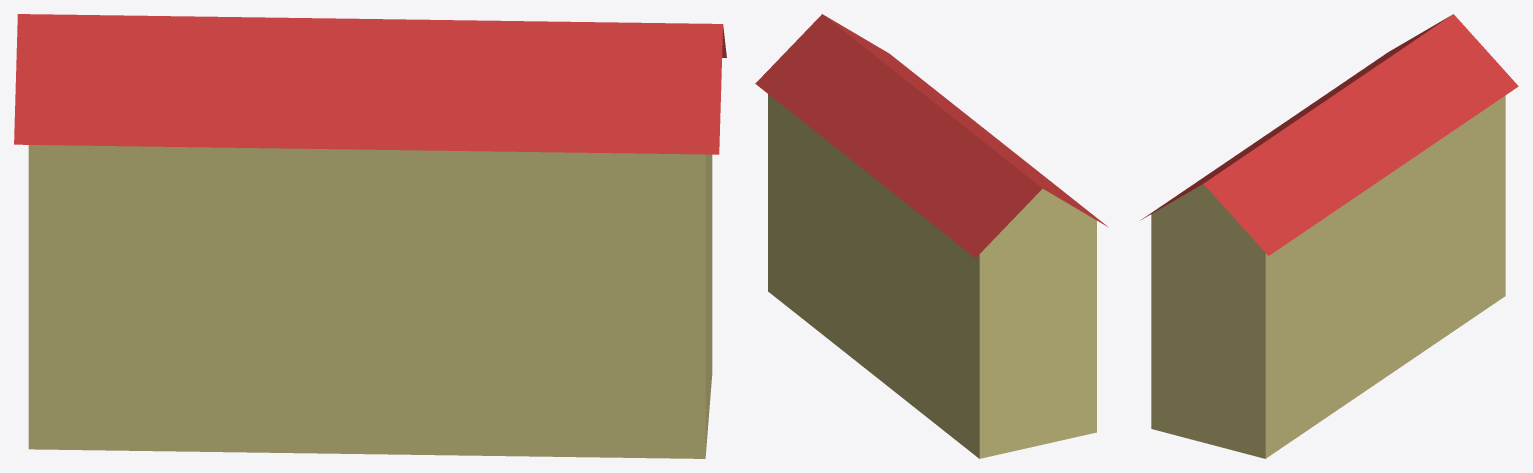
3 renders of one model, left to right at view 1: azimuth 30°, elevation 25°; view 2: azimuth 150°, elevation 25°; view 3: azimuth 270°, elevation 25°, orthographic. The views are drawn at different scales.
Size of the model in its own units: 12.66 by 9.98 by 7.62.
